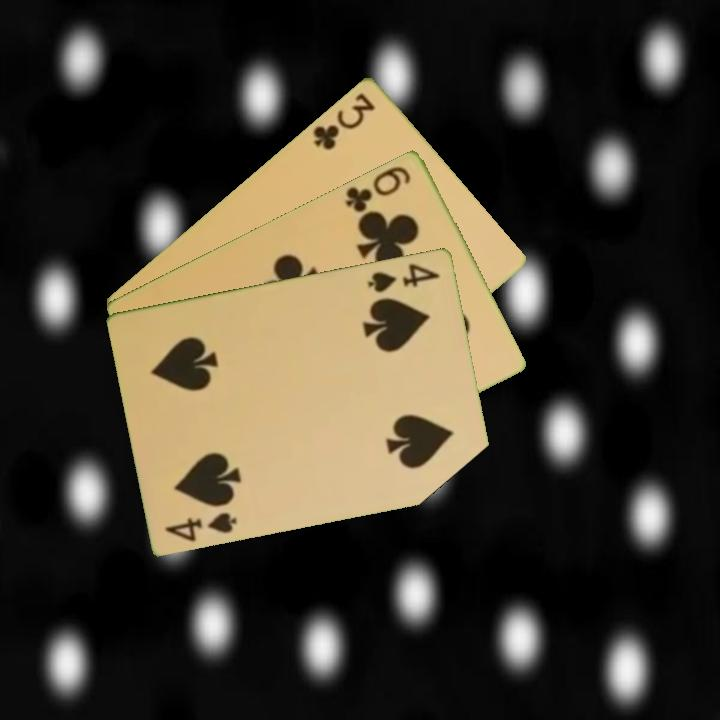3c: (309, 88, 378, 153)
4s: (364, 259, 444, 295), (162, 508, 240, 544)
6c: (341, 162, 414, 215)
